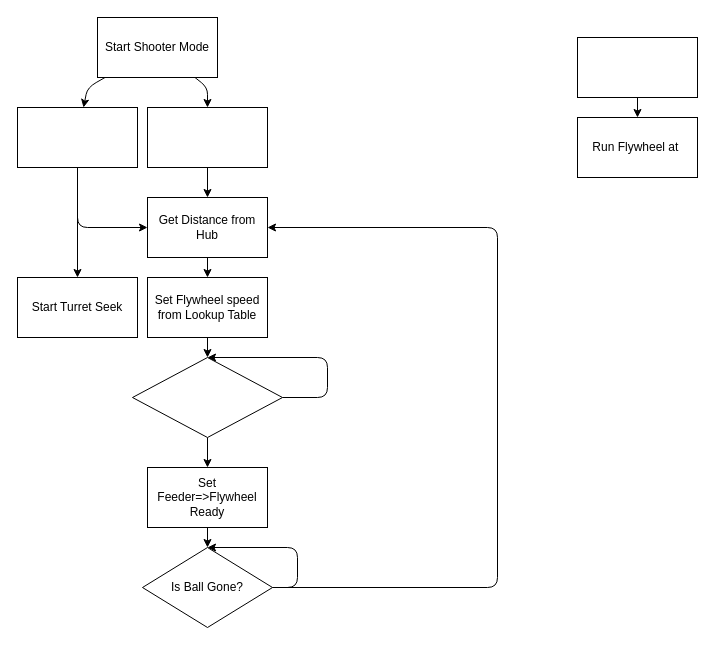
Image size: 715x645. Some labels were removed from this diagram. Each missing label, with the centre of its shape:
At Velocity Setpoint?: [207,397]
Shoot Now: [637,67]
Start Flywheel to min RPM: [207,137]
Start PhotonVision: [77,137]
